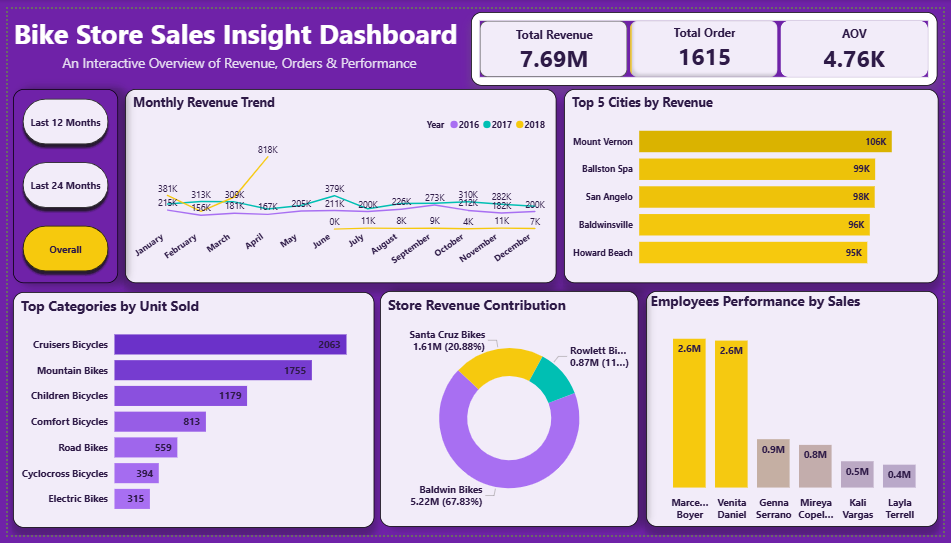

Layout of this report page (visuals, bound fields, positions):
{"tool":"powerbi","page":{"name":"Dashboard","canvas":[1280,720],"ordinal":0},"visuals":[{"type":"textbox","box":[3,3,630,60],"z":0},{"type":"cardVisual","fields":{"Data":["Measure.Total Revenue","Measure.Total Order","Measure.AOV"]},"box":[634.8,4.4,639.2,101.4],"z":1000},{"type":"lineChart","title":"Monthly Revenue Trend","fields":{"Category":["Date.Date.Variation.Date Hierarchy.Month"],"Series":["Date.Date.Variation.Date Hierarchy.Year"],"Y":["Measure.Total Revenue"]},"box":[160,110.2,590.7,266],"z":2000},{"type":"clusteredBarChart","title":"Top 5 Cities by Revenue","fields":{"Category":["SalesFact.sales customers.city"],"Y":["Measure.Total Revenue"]},"box":[761.1,110.2,512.8,266],"z":3000},{"type":"clusteredBarChart","title":"Top Categories by Unit Sold","fields":{"Category":["SalesFact.production categories.category_name"],"Y":["Sum(SalesFact.quantity)"]},"box":[7,387,495,323],"z":4000},{"type":"bookmarkNavigator","box":[7.3,110.2,144,266],"z":5000},{"type":"columnChart","title":"Employees Performance by Sales","fields":{"Category":["SalesFact.Staff Full Name"],"Y":["Measure.Total Revenue"]},"box":[874.3,386.4,399.7,323.3],"z":6000},{"type":"textbox","box":[67.6,55.8,499.6,35.3],"z":7000},{"type":"slicer","fields":{"Values":["Date.Date"]},"box":[536.9,487.8,261.9,119.5],"z":8000},{"type":"donutChart","title":"Store Revenue Contribution","fields":{"Y":["Measure.Total Revenue"],"Category":["SalesFact.sales stores.store_name"]},"box":[510,386.4,354.1,323.3],"z":9000}]}

Visuals, with their boxes in screenshot pixels (x1, y1, x2, y2), scaled from the page's 1280x720 canvas onto the 951x543 screenshot:
textbox: (2,2,470,48)
cardVisual - Measure.Total Revenue x Measure.Total Order: (472,3,947,80)
"Monthly Revenue Trend" lineChart: (119,83,558,284)
"Top 5 Cities by Revenue" clusteredBarChart: (565,83,946,284)
"Top Categories by Unit Sold" clusteredBarChart: (5,292,373,535)
bookmarkNavigator: (5,83,112,284)
"Employees Performance by Sales" columnChart: (650,291,947,535)
textbox: (50,42,421,69)
slicer - Date.Date: (399,368,593,458)
"Store Revenue Contribution" donutChart: (379,291,642,535)
